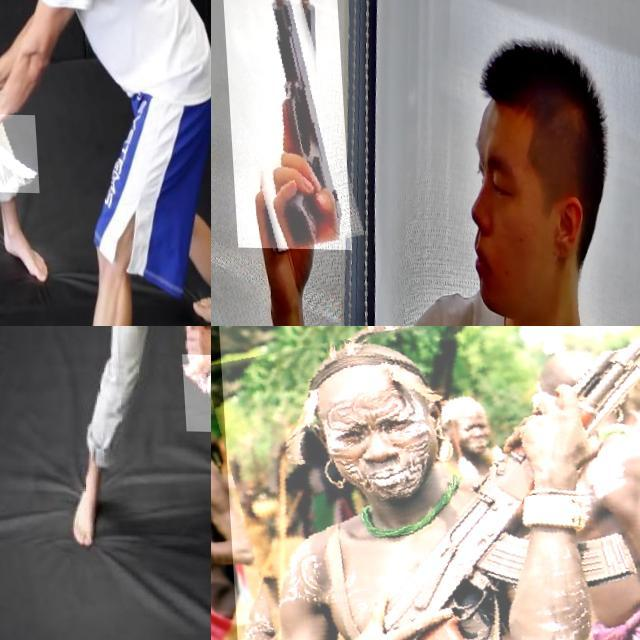-: (0, 112, 37, 191), (177, 352, 211, 431)
gun-knife-thesis - v11 Yolov5 augmented: (216, 326, 640, 640), (222, 0, 348, 248)
